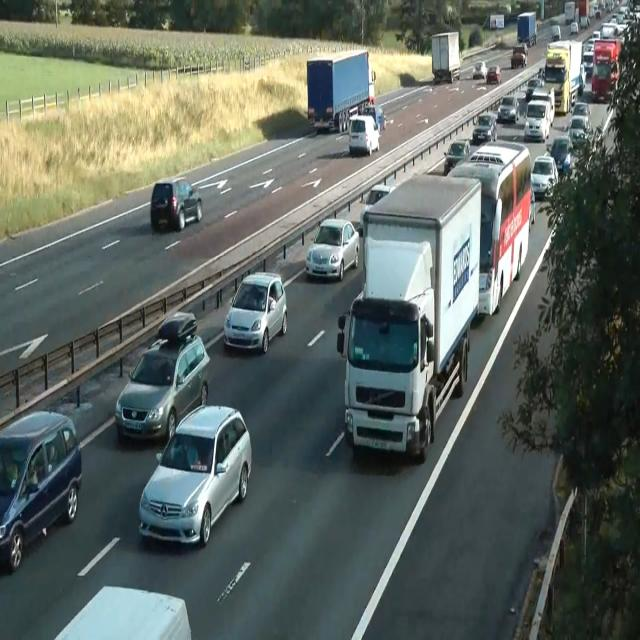bus: (0, 409, 82, 572), (54, 584, 192, 639), (223, 271, 287, 354), (304, 218, 360, 281), (150, 177, 202, 232), (358, 183, 396, 235), (157, 310, 197, 342), (546, 135, 574, 173), (531, 87, 555, 126), (444, 140, 471, 172), (472, 112, 497, 144), (566, 116, 588, 150), (365, 183, 395, 206), (497, 95, 519, 124), (362, 105, 386, 131), (572, 102, 591, 132), (526, 77, 544, 101), (510, 44, 527, 68), (599, 22, 619, 39), (485, 65, 501, 84), (472, 61, 488, 79), (582, 50, 594, 74), (529, 184, 535, 230), (578, 62, 586, 95), (376, 106, 386, 130), (550, 25, 560, 41), (580, 16, 590, 28), (570, 21, 578, 34)
jeep: (138, 402, 252, 548), (114, 314, 210, 442), (348, 114, 380, 156), (530, 154, 558, 200), (524, 99, 550, 141)
minibus: (336, 172, 482, 460), (446, 138, 534, 316), (306, 49, 376, 133), (542, 39, 584, 114), (591, 38, 622, 102), (431, 30, 461, 84), (517, 11, 537, 47), (482, 13, 504, 30), (564, 1, 576, 25)
